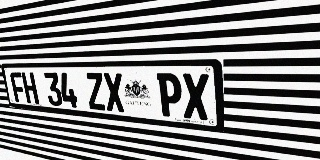3: (44, 72, 63, 106)
4: (58, 73, 78, 108)
F: (9, 72, 27, 103)
H: (21, 72, 39, 104)
P: (157, 73, 183, 118)
X: (182, 73, 210, 121), (103, 73, 126, 112)
Z: (85, 73, 107, 111)
